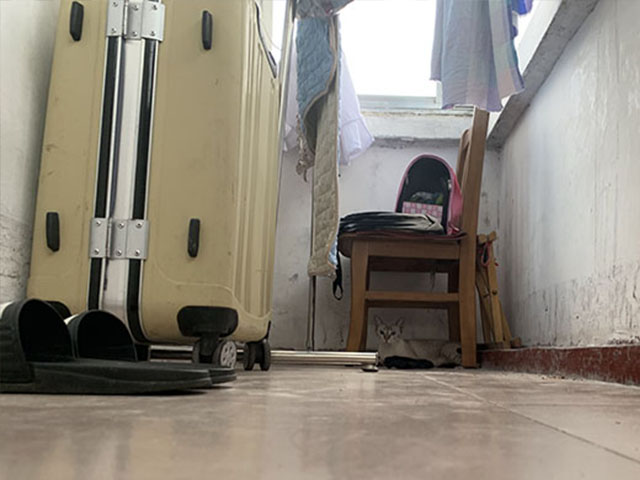slippers: (1, 296, 196, 398), (71, 306, 229, 384)
stool: (336, 101, 491, 368)
